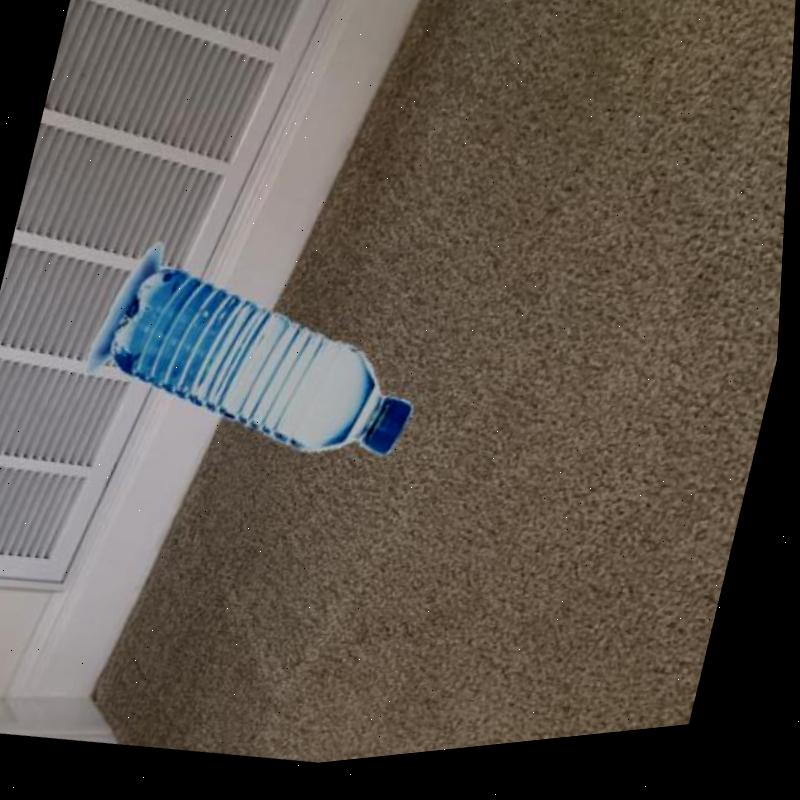botella: (91, 239, 449, 494)
